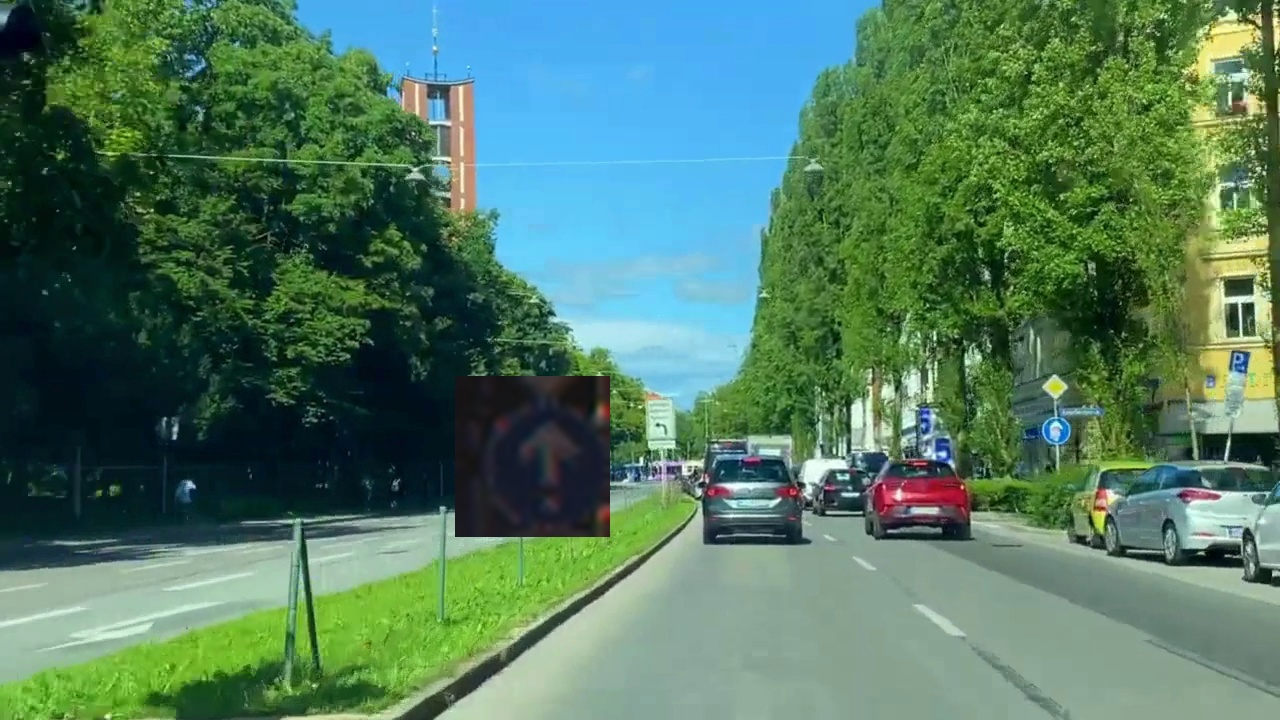Ahead only: (455, 376, 610, 537)
